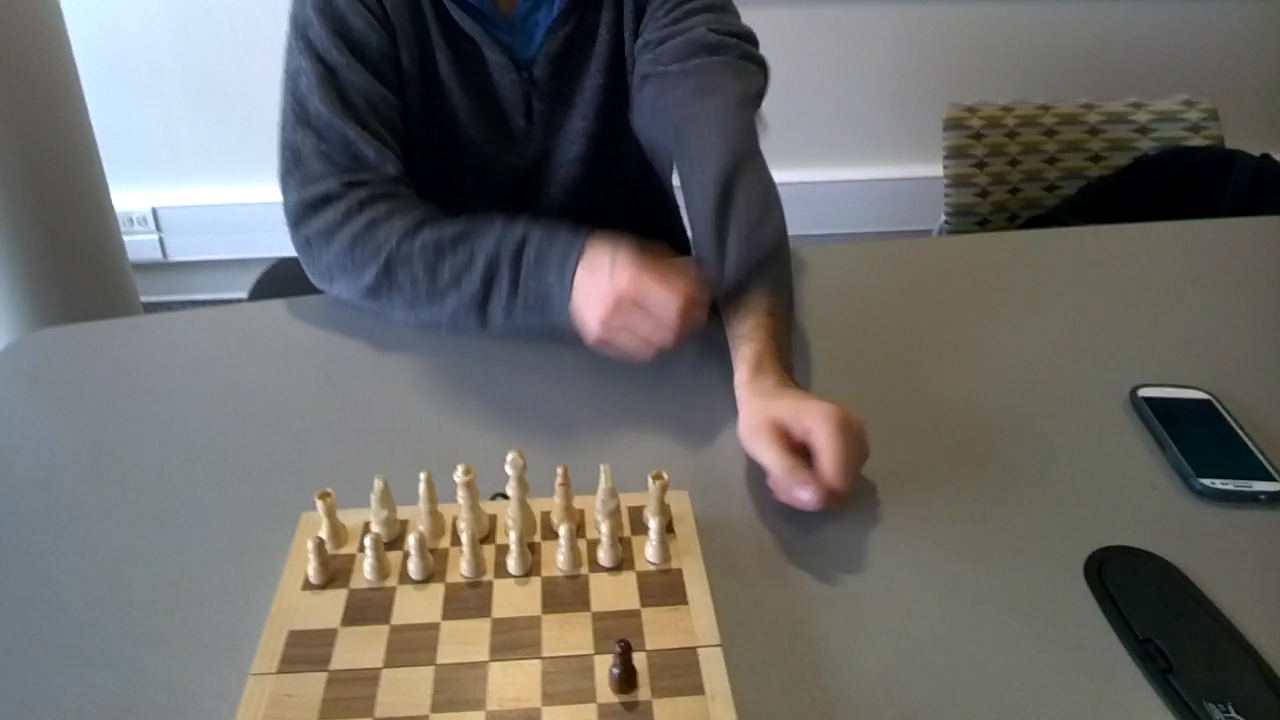hand: (738, 383, 868, 507), (572, 242, 703, 359)
